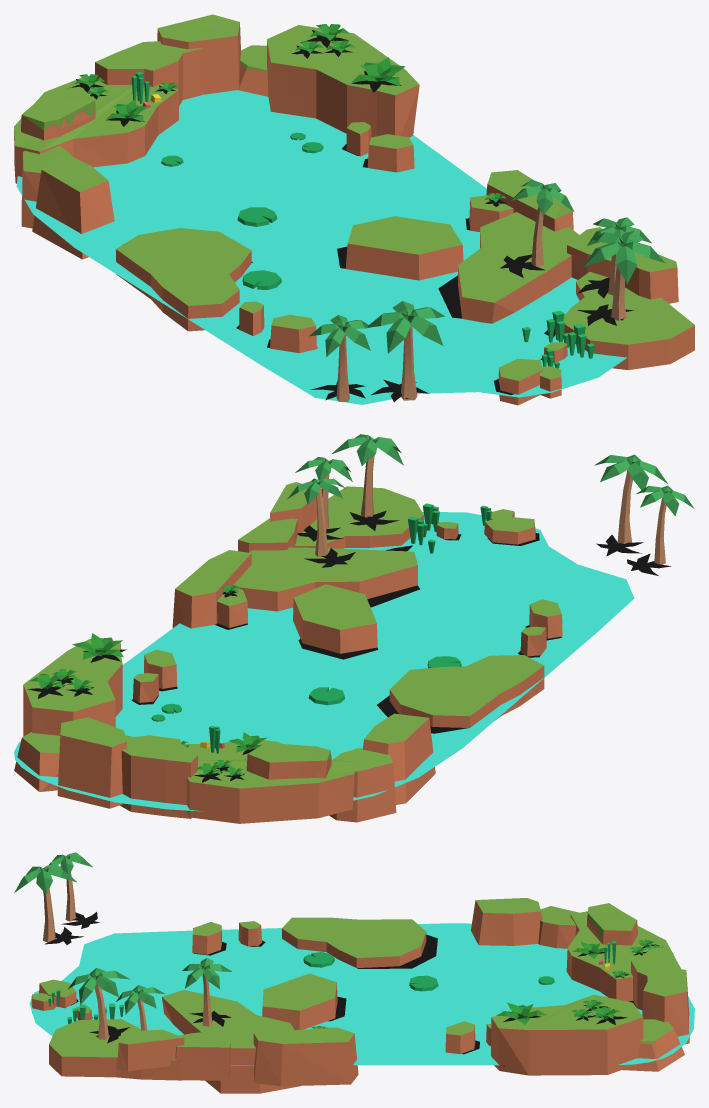
File: xweilan_1005_0.FBX
3 renders of one model, top to bottom at view 1: azimuth 30°, elevation 25°; view 2: azimuth 150°, elevation 25°; view 3: azimuth 270°, elevation 25°, orthographic. The views are drawn at different scales.
Visible parts, largest first — view 1: xweilan_1005_0; view 2: xweilan_1005_0; view 3: xweilan_1005_0.
Boxes of the visible parts, x1,y1,x2,y2 form: xweilan_1005_0: (14, 14, 694, 405); xweilan_1005_0: (14, 434, 694, 823); xweilan_1005_0: (14, 852, 694, 1093).
Size of the model in its own units: 4486 by 1551 by 8455.
